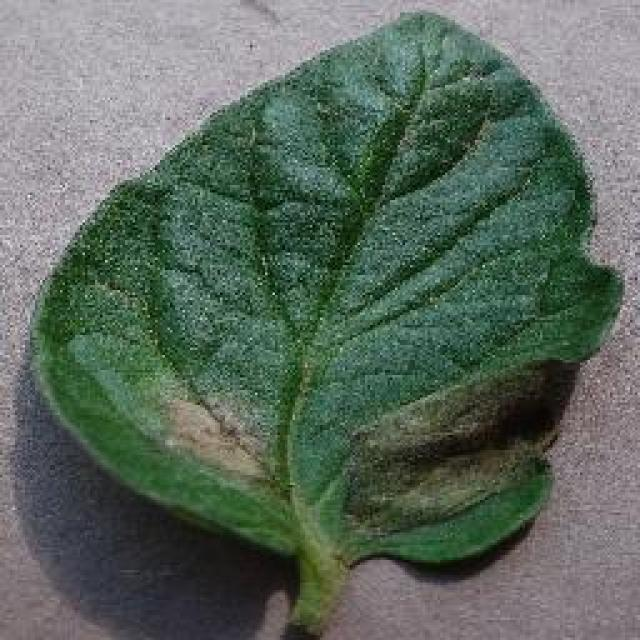Tomato_Late_Blight: (348, 363, 581, 517), (148, 366, 294, 495)
